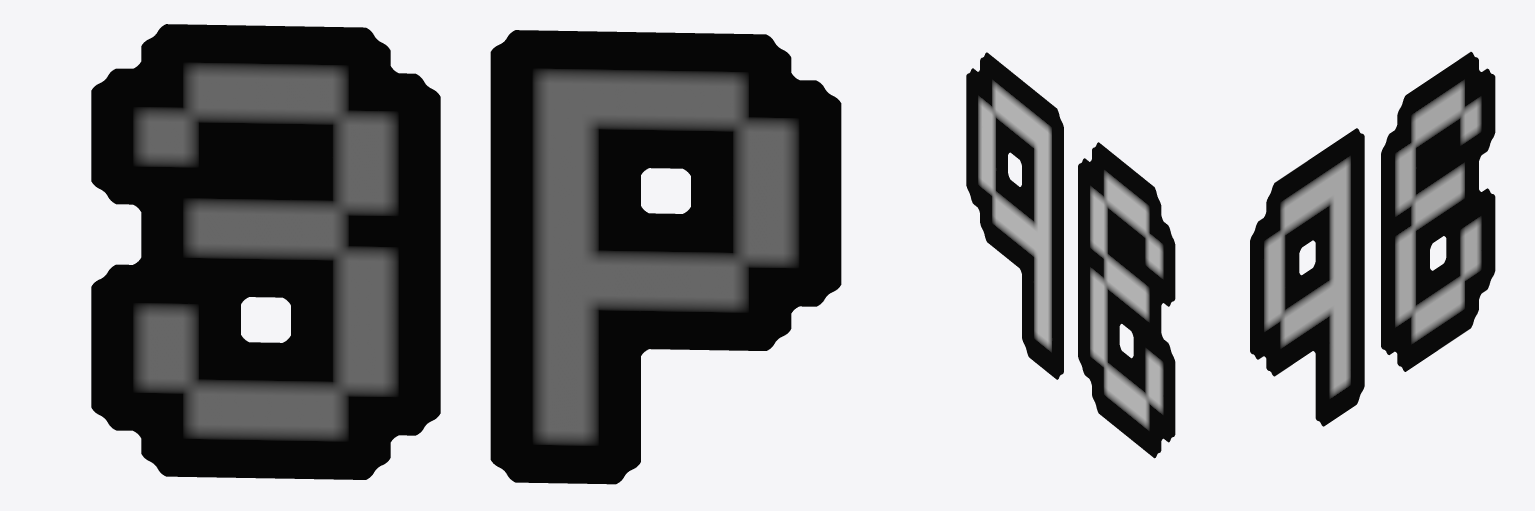
3 renders of one model, left to right at view 1: azimuth 30°, elevation 25°; view 2: azimuth 150°, elevation 25°; view 3: azimuth 270°, elevation 25°, orthographic. The views are drawn at different scales.
Parts seen in each view (by area): view 1: Joint_0_Object_0; view 2: Joint_0_Object_0; view 3: Joint_0_Object_0.
Part boxes in pixels (x1=…): Joint_0_Object_0: x1=91, y1=24, x2=841, y2=484; Joint_0_Object_0: x1=966, y1=52, x2=1175, y2=458; Joint_0_Object_0: x1=1250, y1=52, x2=1495, y2=426.
Size of the model in its own units: 47.33 by 32 by 29.94.
1 material, 1 textured.
